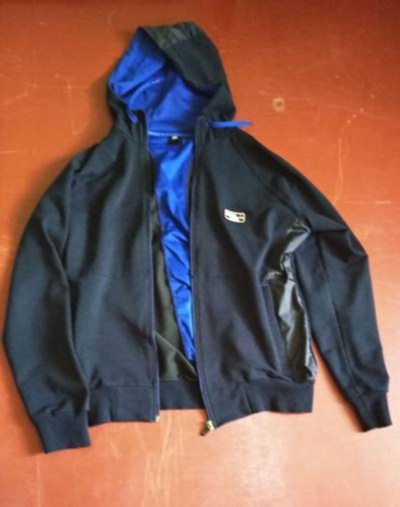Hoodie: (17, 4, 390, 449)
